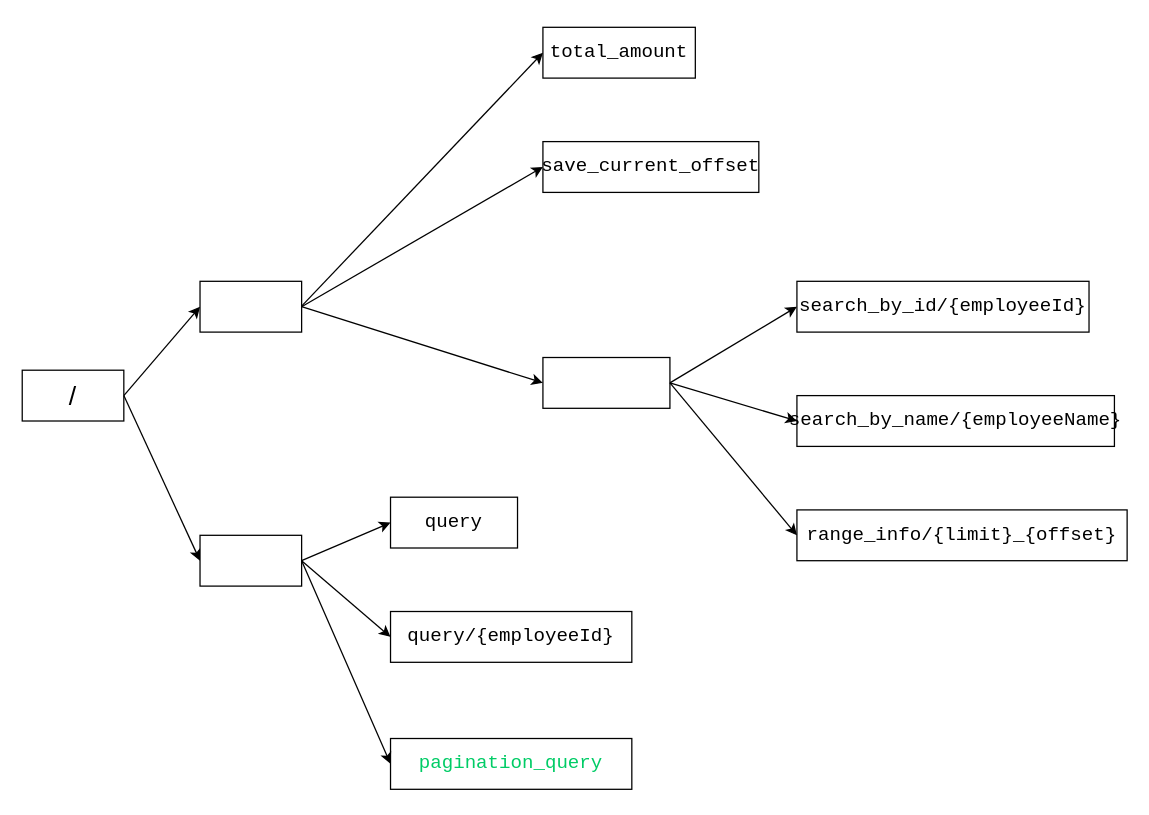
This 1149x815 diagram has some shape labels left out. Here are the shapes that lost their labels. From the top down, the centre of each, then its label:
the point at 250,306: api
the point at 606,382: info
the point at 250,560: employee
